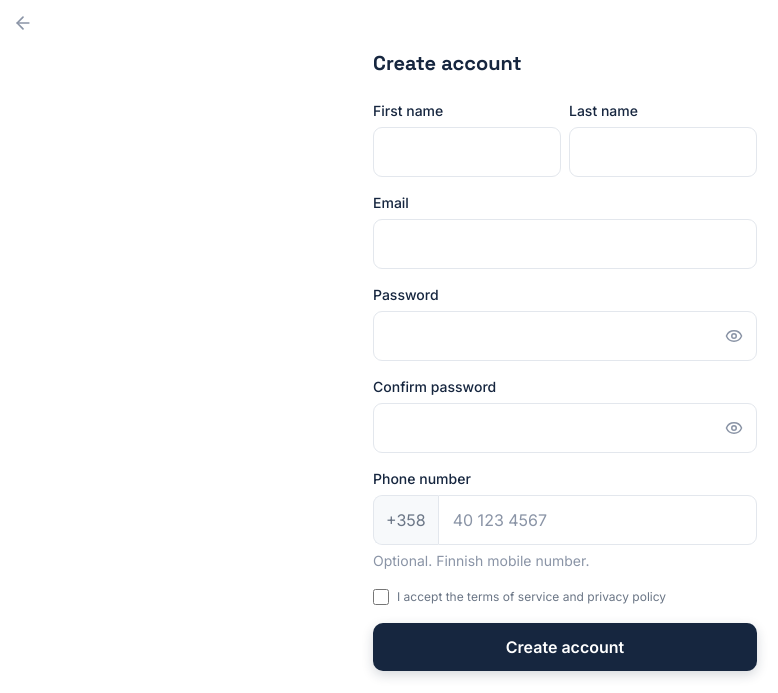
Test: RegisterPage password strength hint › switches to the positive hint once the password reaches 10 characters
Type "tenchars10" into the password field labelled "Password". click: coordinates (565, 336)
box: [373,311,757,361]
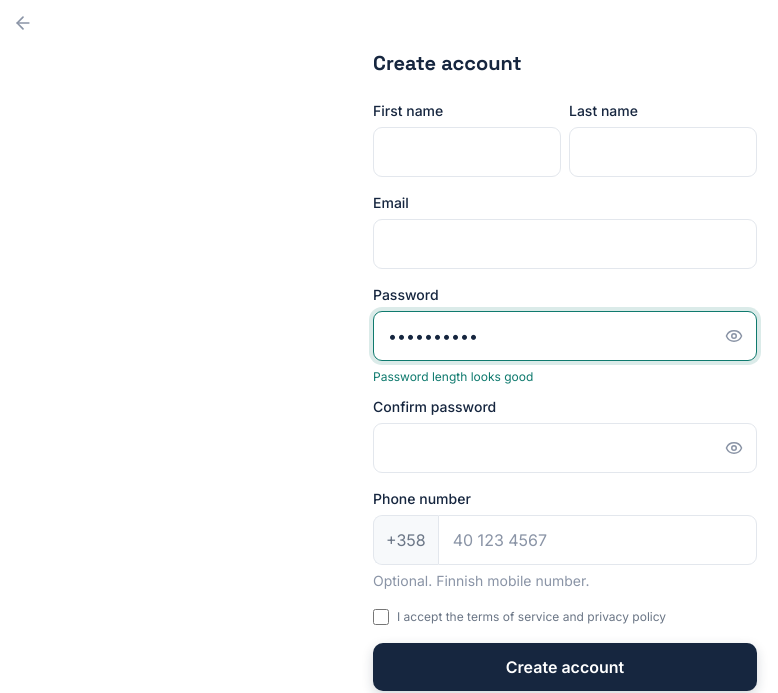
Expected: the text "Password length looks good" is shown, [373,369,533,384]
